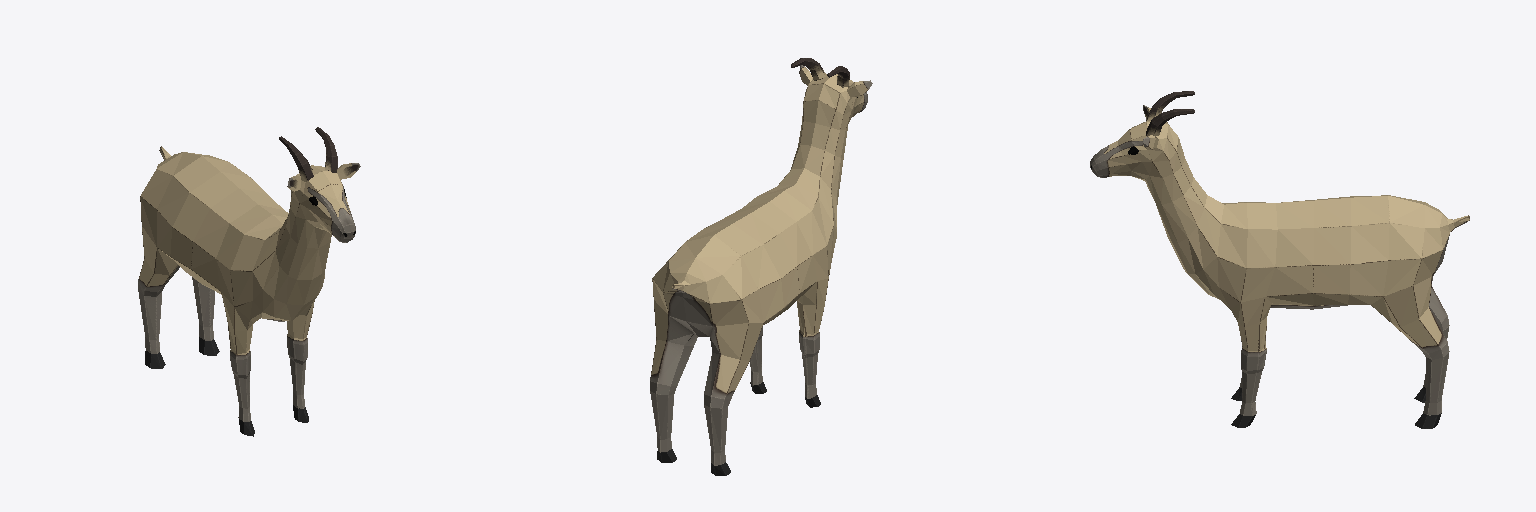
The picture shows the model from 3 angles: view 1: azimuth 30°, elevation 25°; view 2: azimuth 150°, elevation 25°; view 3: azimuth 270°, elevation 25°; orthographic projection.
Parts seen in each view (by area): view 1: Goat_mesh; view 2: Goat_mesh; view 3: Goat_mesh.
Part boxes in pixels (left/top/right/bottom): Goat_mesh: left=138, top=127, right=360, bottom=436; Goat_mesh: left=650, top=58, right=872, bottom=475; Goat_mesh: left=1090, top=91, right=1469, bottom=428.
Bounding box in the file's own units: 2.26 × 6.6 × 7.31.
Materials: 1 (1 with a texture image).